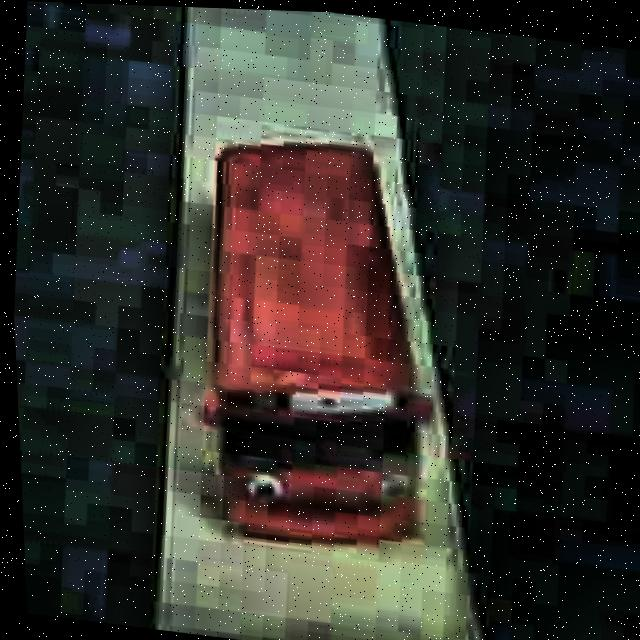bus: (176, 122, 467, 567)
